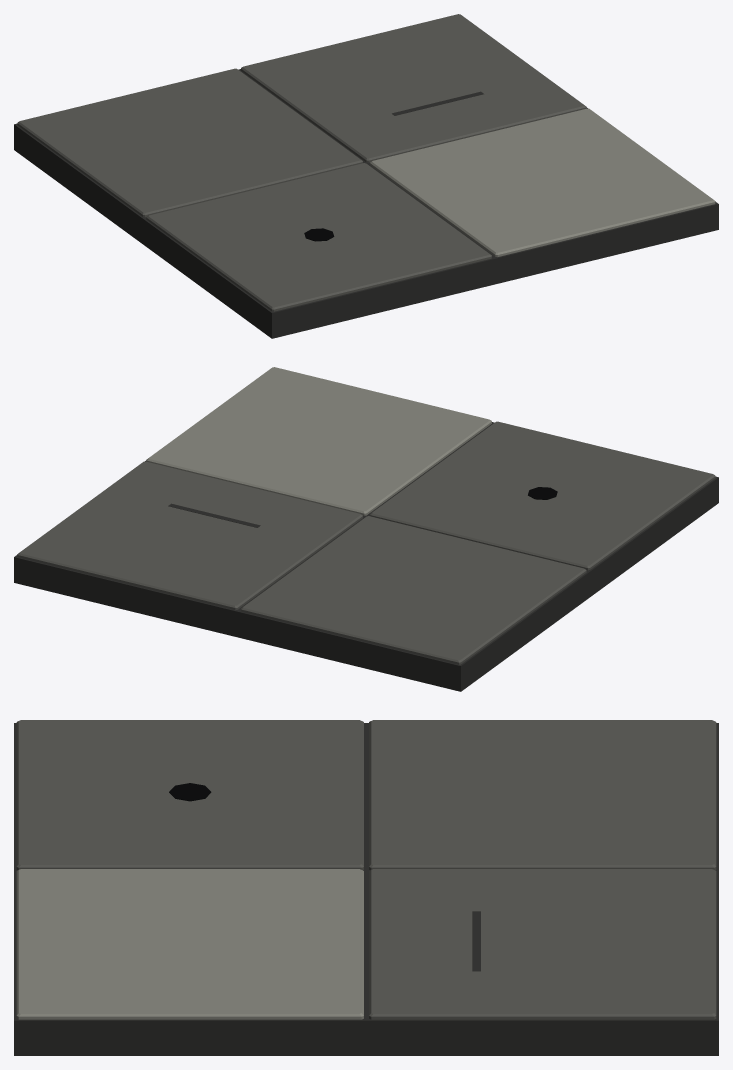
File: SM_Bld_Floor_Concrete_4x4.glb
3 renders of one model, top to bottom at view 1: azimuth 30°, elevation 25°; view 2: azimuth 150°, elevation 25°; view 3: azimuth 270°, elevation 25°, orthographic. The views are drawn at different scales.
Visible parts, largest first — view 1: SM_Bld_Floor_Concrete_4x4; view 2: SM_Bld_Floor_Concrete_4x4; view 3: SM_Bld_Floor_Concrete_4x4.
Boxes of the visible parts, x1,y1,x2,y2 form: SM_Bld_Floor_Concrete_4x4: [14, 14, 718, 338]; SM_Bld_Floor_Concrete_4x4: [14, 367, 718, 691]; SM_Bld_Floor_Concrete_4x4: [14, 720, 718, 1055].
Size of the model in its own units: 4 by 0.254 by 4.
1 material, 1 textured.
